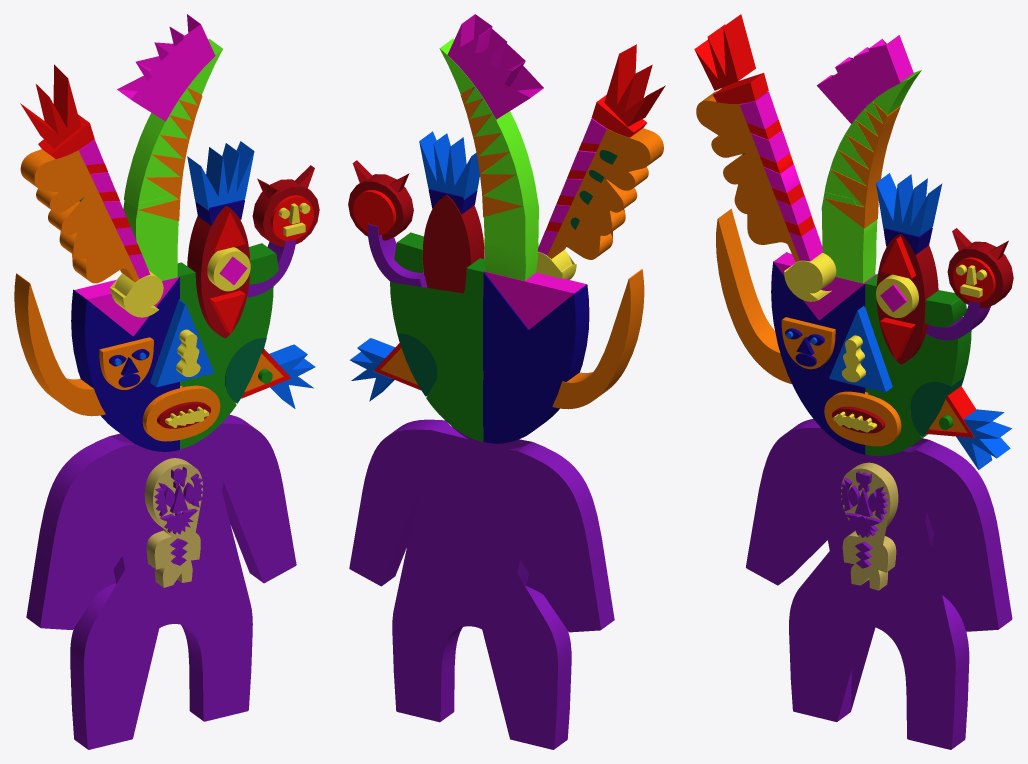
Rendered from personaje_1.fbx.
3 renders of one model, left to right at view 1: azimuth 30°, elevation 25°; view 2: azimuth 150°, elevation 25°; view 3: azimuth 330°, elevation 25°, orthographic.
Visible parts, largest first — view 1: Extrude, Extrude_13, Extrude_12, Extrude_1, Extrude_37, Extrude_14, Extrude_36, Extrude_21, Extrude_53, Extrude_5, Cube_1, Extrude_15 (+21 smaller); view 2: Extrude, Extrude_12, Extrude_1, Extrude_13, Extrude_37, Extrude_5, Extrude_36, Extrude_14, Cube_1, Extrude_53, Cube, Extrude_28 (+11 smaller); view 3: Extrude, Extrude_13, Extrude_1, Extrude_12, Extrude_14, Extrude_37, Extrude_21, Extrude_38, Cube_1, Extrude_53, Extrude_28, Extrude_36 (+26 smaller).
Boxes of the visible parts, x1,y1,x2,y2 form: Extrude: (26, 414, 296, 749); Extrude_13: (20, 149, 139, 283); Extrude_12: (71, 277, 179, 451); Extrude_1: (177, 262, 273, 449); Extrude_37: (117, 14, 215, 121); Extrude_14: (14, 273, 105, 416); Extrude_36: (124, 38, 222, 209); Extrude_21: (144, 458, 202, 587); Extrude_53: (187, 141, 254, 210); Extrude_5: (187, 206, 250, 338); Cube_1: (123, 196, 178, 280); Extrude_15: (142, 385, 220, 441); Extrude: (349, 419, 614, 749); Extrude_12: (483, 272, 589, 443); Extrude_1: (390, 258, 485, 441); Extrude_13: (547, 128, 663, 259); Extrude_37: (447, 14, 543, 119); Extrude_5: (422, 195, 484, 293); Extrude_36: (439, 38, 536, 206); Extrude_14: (552, 269, 644, 409); Cube_1: (483, 196, 538, 280); Extrude_53: (419, 131, 479, 199); Cube: (484, 270, 586, 329); Extrude_28: (604, 44, 665, 126); Extrude: (746, 419, 1012, 749); Extrude_13: (696, 91, 799, 261); Extrude_1: (865, 274, 971, 455); Extrude_12: (771, 252, 865, 454); Extrude_14: (716, 208, 791, 383); Extrude_37: (817, 35, 913, 123); Extrude_21: (841, 462, 898, 590); Extrude_38: (824, 102, 900, 228); Cube_1: (821, 192, 877, 283); Extrude_53: (876, 173, 942, 236); Extrude_28: (694, 14, 755, 90); Extrude_36: (824, 70, 921, 206).
Bounding box in the file's own units: 25.12 × 56.71 × 5.68.
